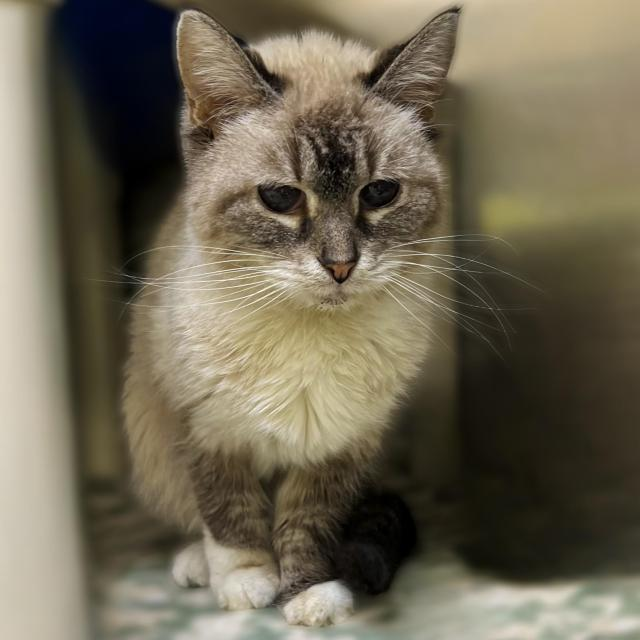siamese_cat: (147, 4, 485, 366)
